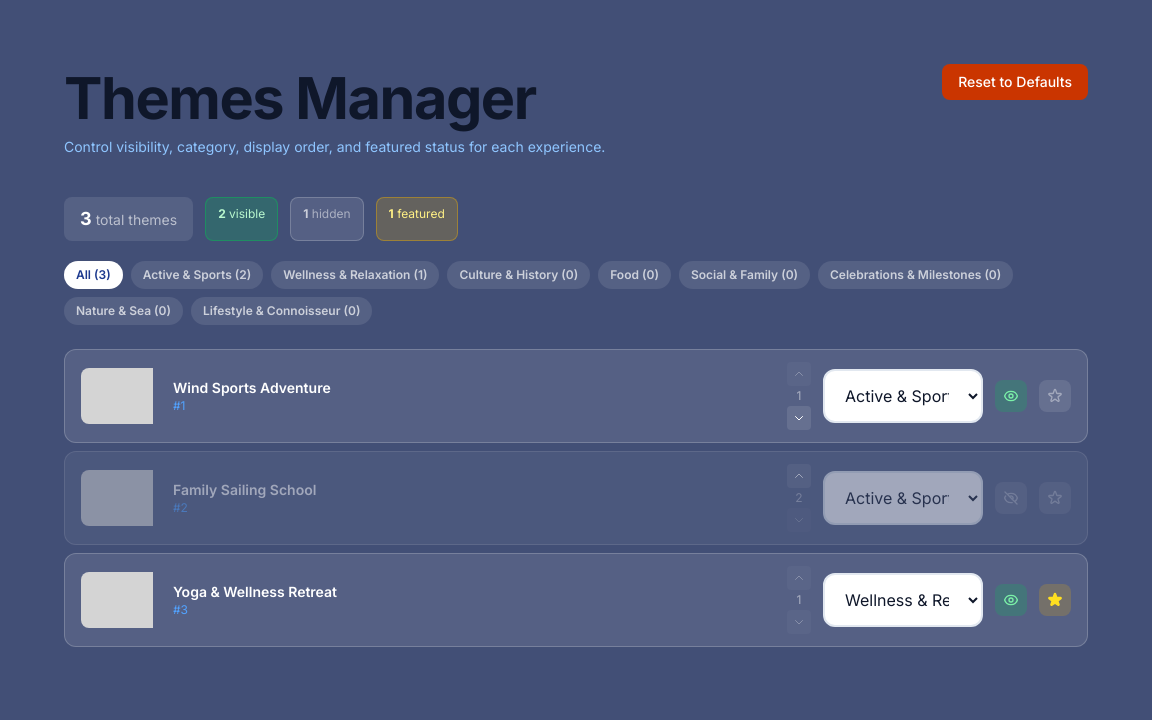
Scenario: ThemesAdminClient — error handling › shows error message when upsertThemeMetadata rejects
The image size is (1152, 720).
Expected: the text "Wind Sports Adventure" is shown, [173, 379, 331, 396]
Click the button titled "Hide from public page" in the row of "Wind Sports Adventure": click(1011, 396) [995, 380, 1027, 412]
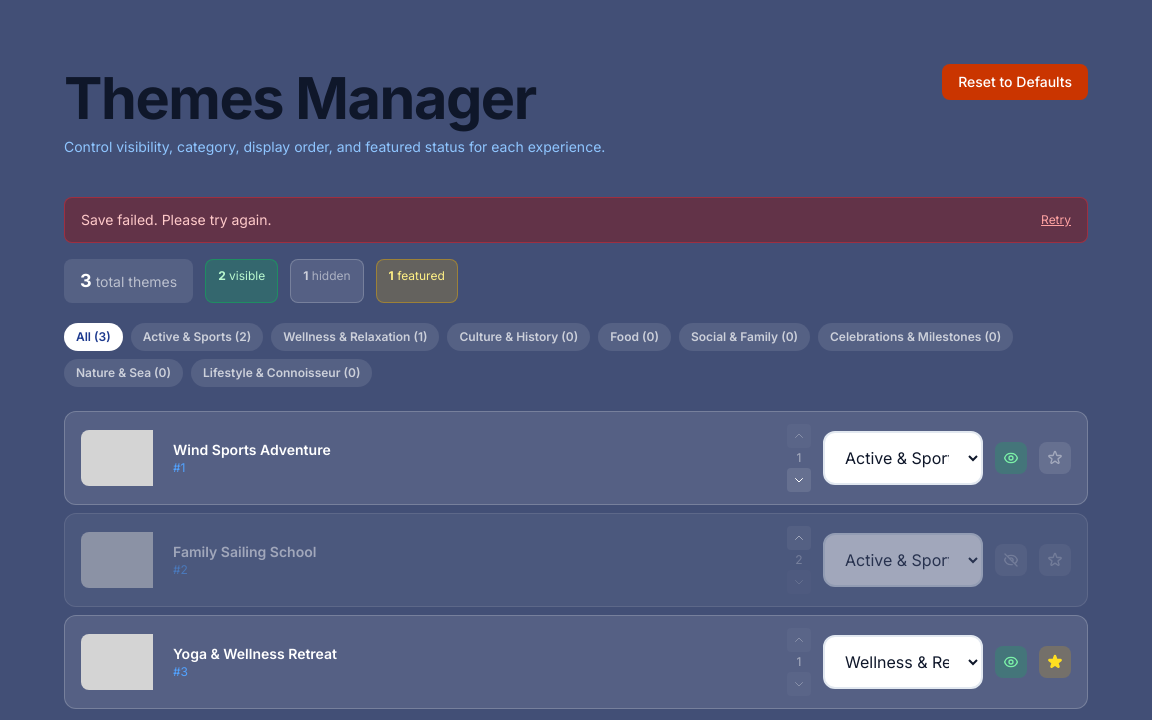
Now the text "Save failed. Please try again." is shown, box [81, 210, 272, 230]
